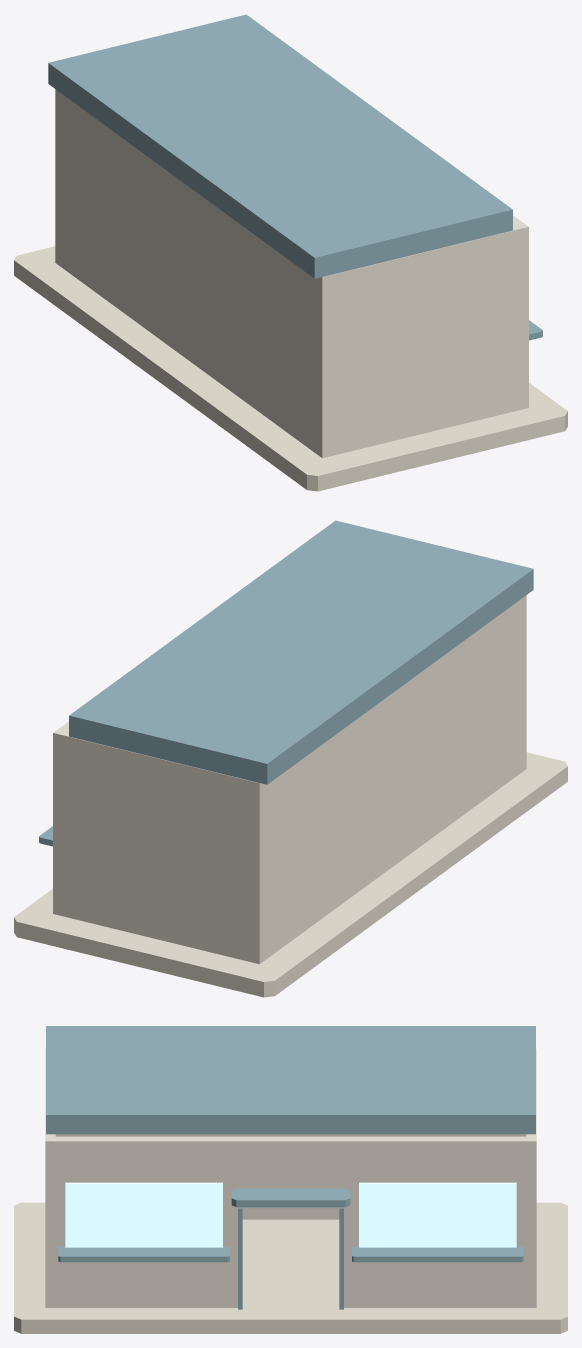
The model's file is Colony_KioskStrip_v4_ShadowProxy.glb.
3 views of the same model, one above another, from view 1: azimuth 30°, elevation 25°; view 2: azimuth 150°, elevation 25°; view 3: azimuth 270°, elevation 25° (orthographic). The views are drawn at different scales.
Parts seen in each view (by area): view 1: Colony_KioskStrip_v4_ShadowProxy / Structure, Colony_KioskStrip_v4_ShadowProxy / Roof, Colony_KioskStrip_v4_ShadowProxy / Foundation; view 2: Colony_KioskStrip_v4_ShadowProxy / Structure, Colony_KioskStrip_v4_ShadowProxy / Roof, Colony_KioskStrip_v4_ShadowProxy / Foundation; view 3: Colony_KioskStrip_v4_ShadowProxy / Roof, Colony_KioskStrip_v4_ShadowProxy / Structure, Colony_KioskStrip_v4_ShadowProxy / Foundation, Colony_KioskStrip_v4_ShadowProxy / Kiosk booths, Colony_KioskStrip_v4_ShadowProxy / Entrance modules.
Part boxes in pixels (x1=…): Colony_KioskStrip_v4_ShadowProxy / Structure: x1=55, y1=89, x2=528, y2=458; Colony_KioskStrip_v4_ShadowProxy / Roof: x1=48, y1=14, x2=512, y2=278; Colony_KioskStrip_v4_ShadowProxy / Foundation: x1=14, y1=246, x2=567, y2=491; Colony_KioskStrip_v4_ShadowProxy / Structure: x1=53, y1=595, x2=526, y2=964; Colony_KioskStrip_v4_ShadowProxy / Roof: x1=69, y1=520, x2=533, y2=784; Colony_KioskStrip_v4_ShadowProxy / Foundation: x1=14, y1=752, x2=567, y2=997; Colony_KioskStrip_v4_ShadowProxy / Roof: x1=46, y1=1026, x2=535, y2=1134; Colony_KioskStrip_v4_ShadowProxy / Structure: x1=45, y1=1048, x2=536, y2=1307; Colony_KioskStrip_v4_ShadowProxy / Foundation: x1=14, y1=1202, x2=567, y2=1333; Colony_KioskStrip_v4_ShadowProxy / Kiosk booths: x1=58, y1=1182, x2=523, y2=1262; Colony_KioskStrip_v4_ShadowProxy / Entrance modules: x1=231, y1=1188, x2=350, y2=1325.
Size of the model in its own units: 6 by 4.78 by 12.
